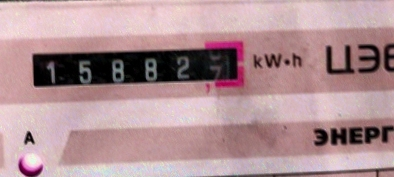1: (43, 56, 58, 85)
2: (174, 52, 191, 81)
5: (75, 56, 94, 84)
7: (207, 62, 223, 79)
8: (108, 56, 125, 84), (142, 54, 158, 82)
screen: (18, 32, 254, 99)
